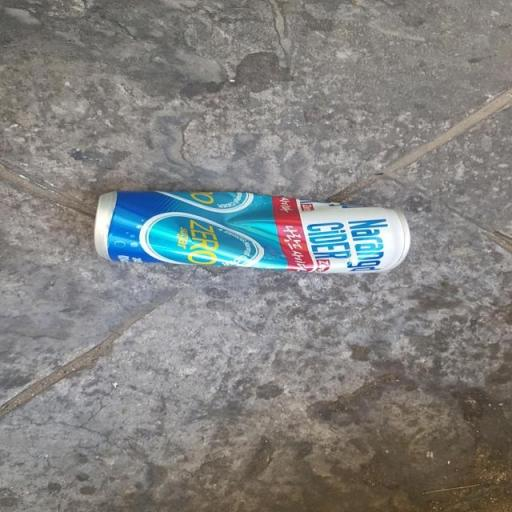metal: (80, 177, 439, 294)
